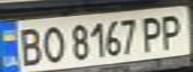1: (87, 19, 109, 58)
6: (106, 17, 127, 57)
7: (118, 16, 142, 55)
8: (66, 20, 90, 61)
B: (12, 25, 45, 68)
O: (36, 22, 66, 64)
P: (157, 11, 190, 51), (139, 12, 169, 53)
